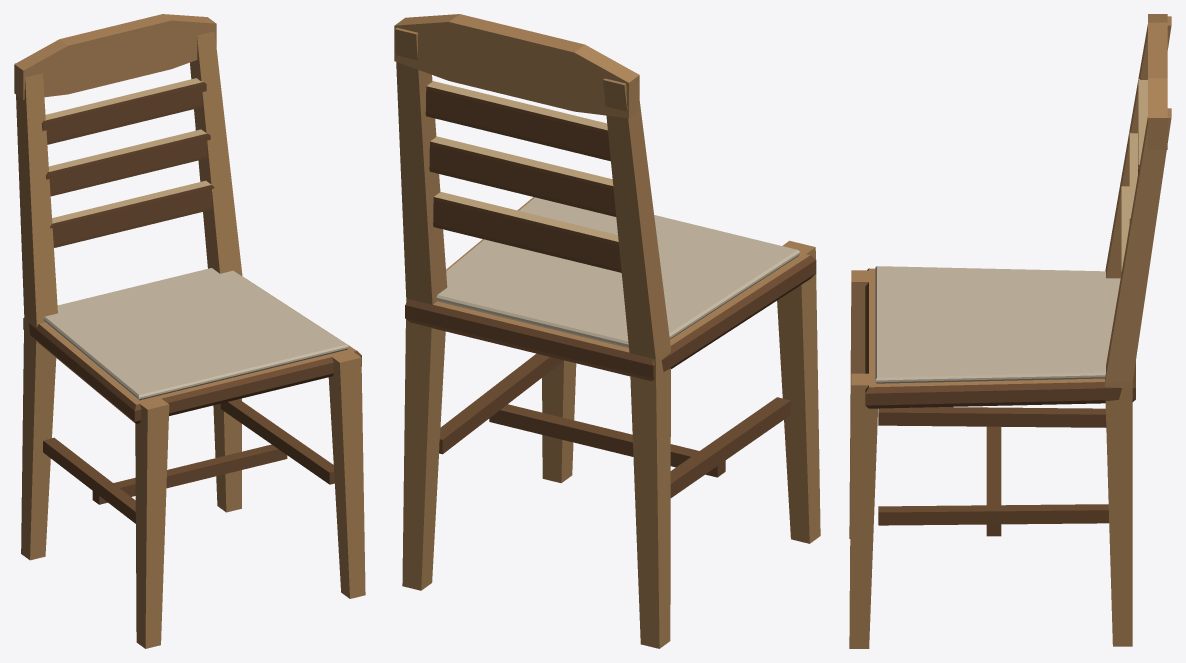
Rendered from FN_Chair_Dining.glb.
3 views of the same model, side by side, from view 1: azimuth 30°, elevation 25°; view 2: azimuth 150°, elevation 25°; view 3: azimuth 270°, elevation 25° (orthographic). The views are drawn at different scales.
Parts seen in each view (by area): view 1: FN_Chair_Dining; view 2: FN_Chair_Dining; view 3: FN_Chair_Dining.
Boxes of the visible parts, bbox=[...] form: FN_Chair_Dining: bbox=[14, 14, 365, 648]; FN_Chair_Dining: bbox=[394, 14, 820, 648]; FN_Chair_Dining: bbox=[849, 14, 1171, 648].
Size of the model in its own units: 0.44 by 0.906 by 0.4902.
1 material, 1 textured.
